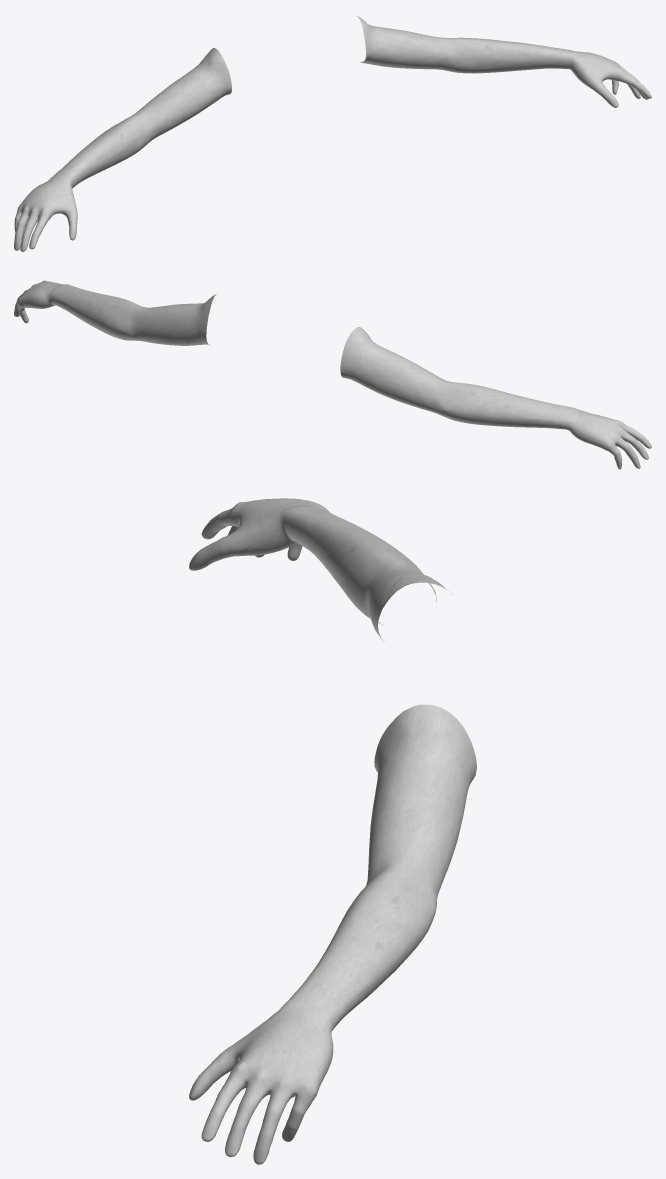
File: FpsArmsLow-compressed.glb
The picture shows the model from 3 angles, top to bottom: view 1: azimuth 30°, elevation 25°; view 2: azimuth 150°, elevation 25°; view 3: azimuth 270°, elevation 25°; orthographic projection. The views are drawn at different scales.
Parts seen in each view (by area): view 1: FpsArms22; view 2: FpsArms22; view 3: FpsArms22.
Part boxes in pixels (<box>): FpsArms22: <box>14,15,651,251</box>; FpsArms22: <box>14,280,651,469</box>; FpsArms22: <box>189,498,476,1164</box>.
Bounding box in the file's own units: 1.81 × 0.308 × 0.3592.
1 material, 1 textured.
